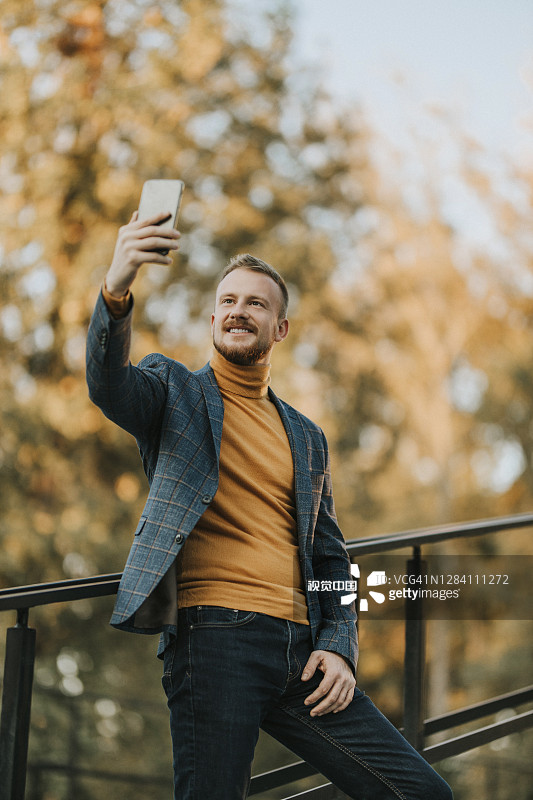no-phone: (297, 636, 368, 726)
taking photos: (100, 164, 192, 292)
